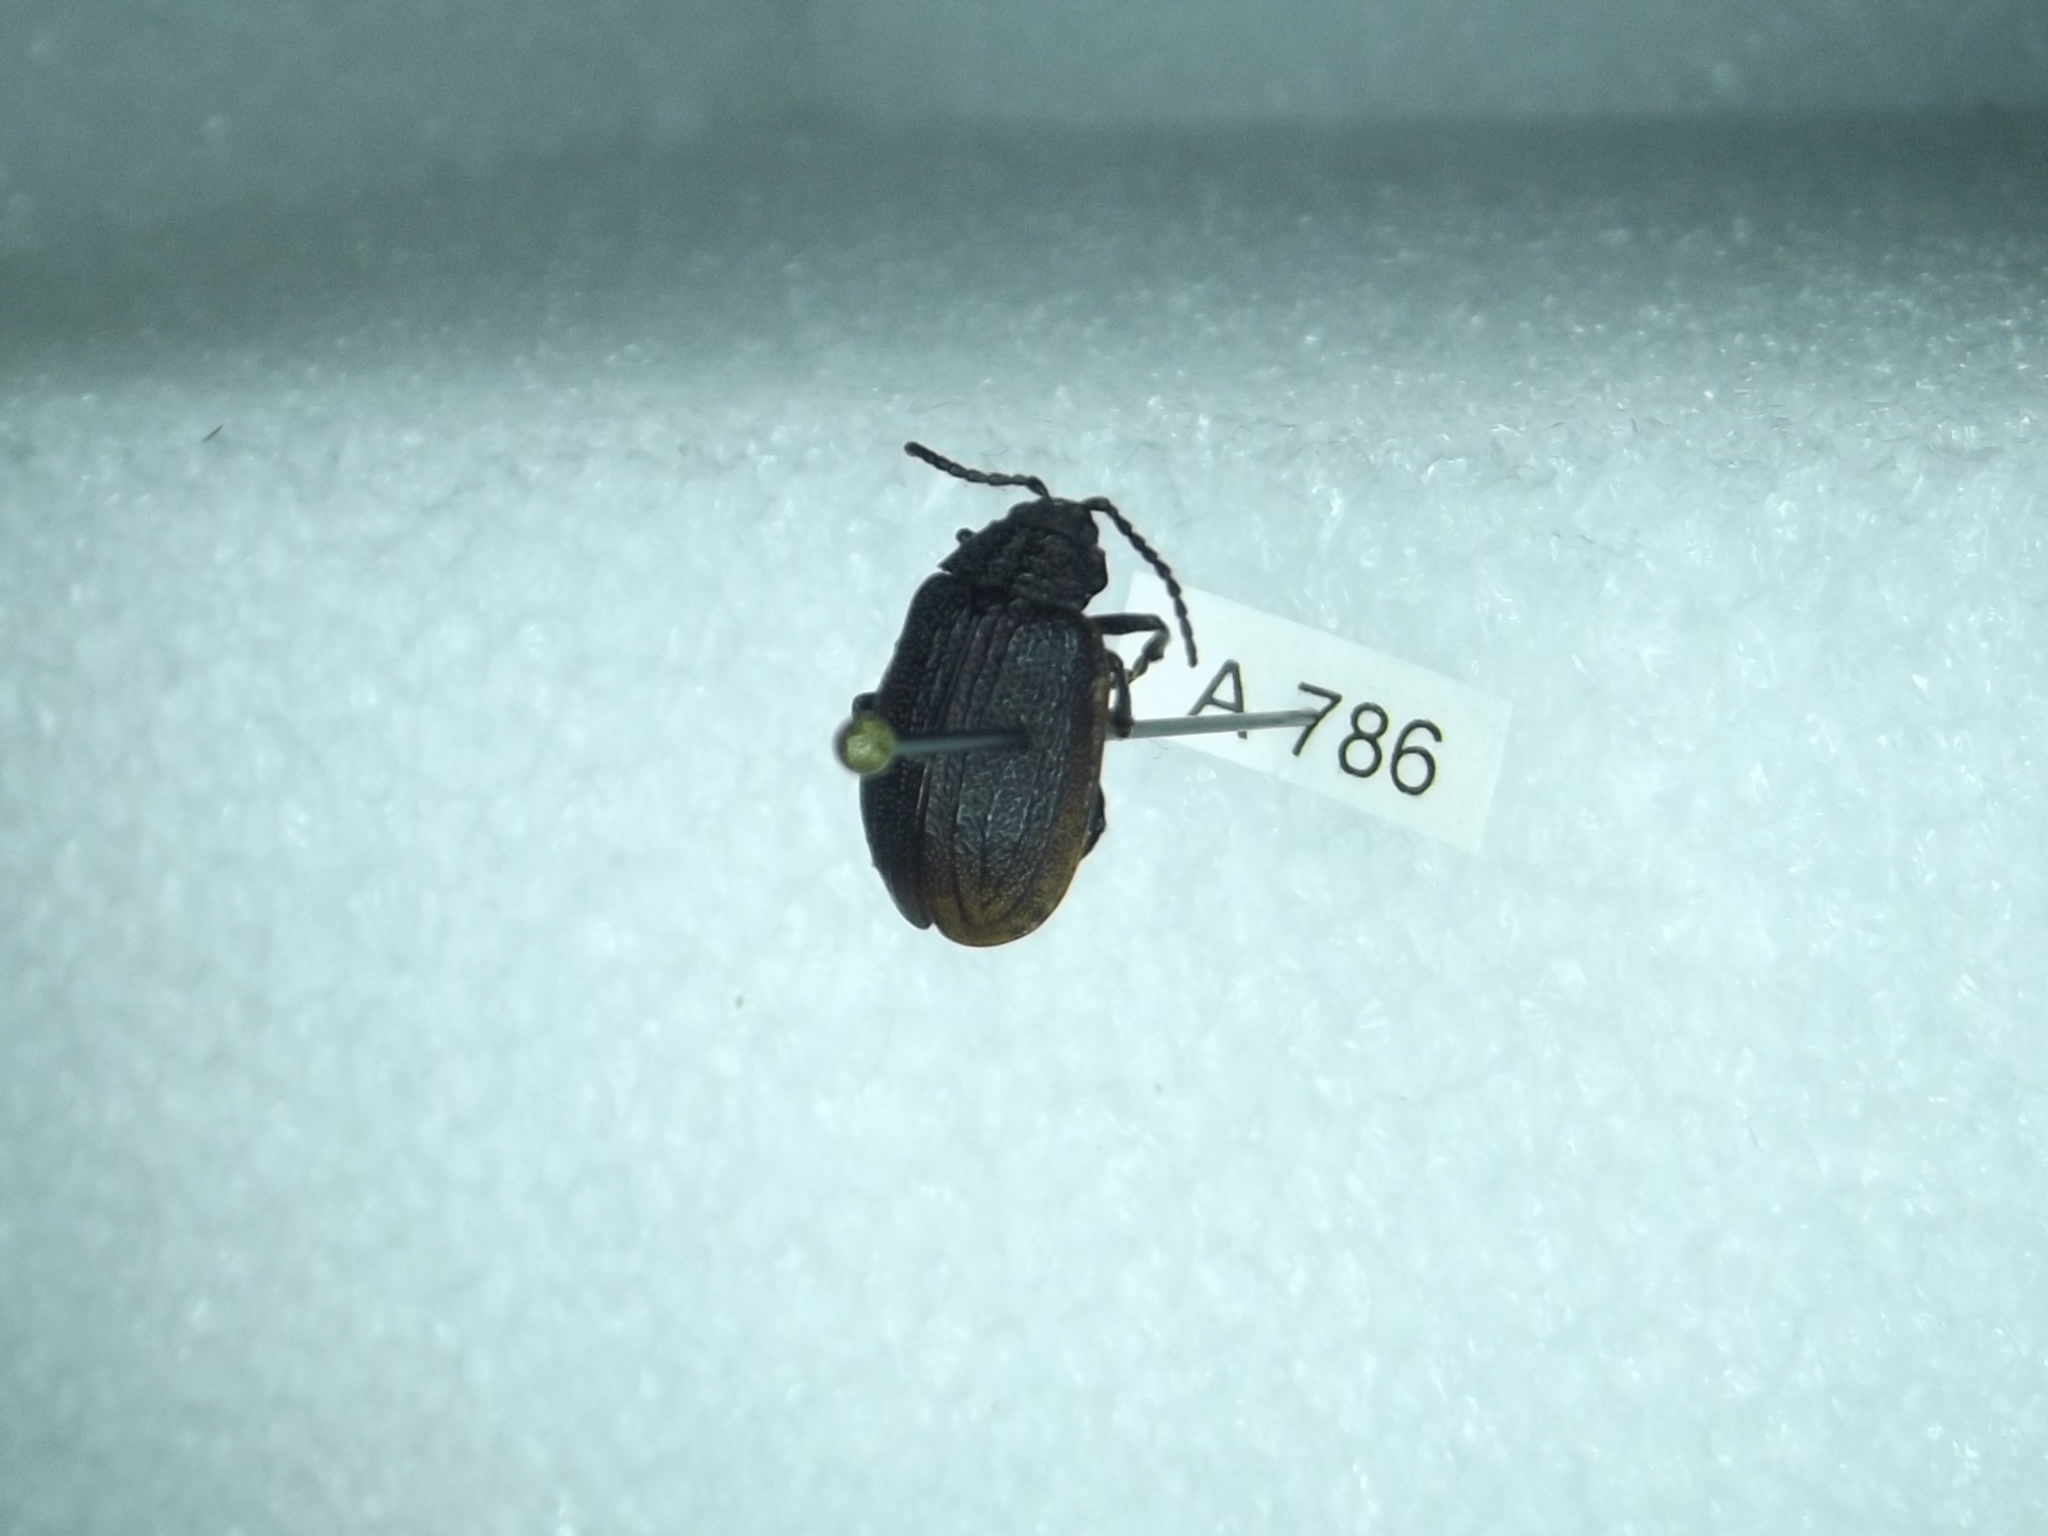Galeruca_tanaceti: (855, 440, 1206, 955)
